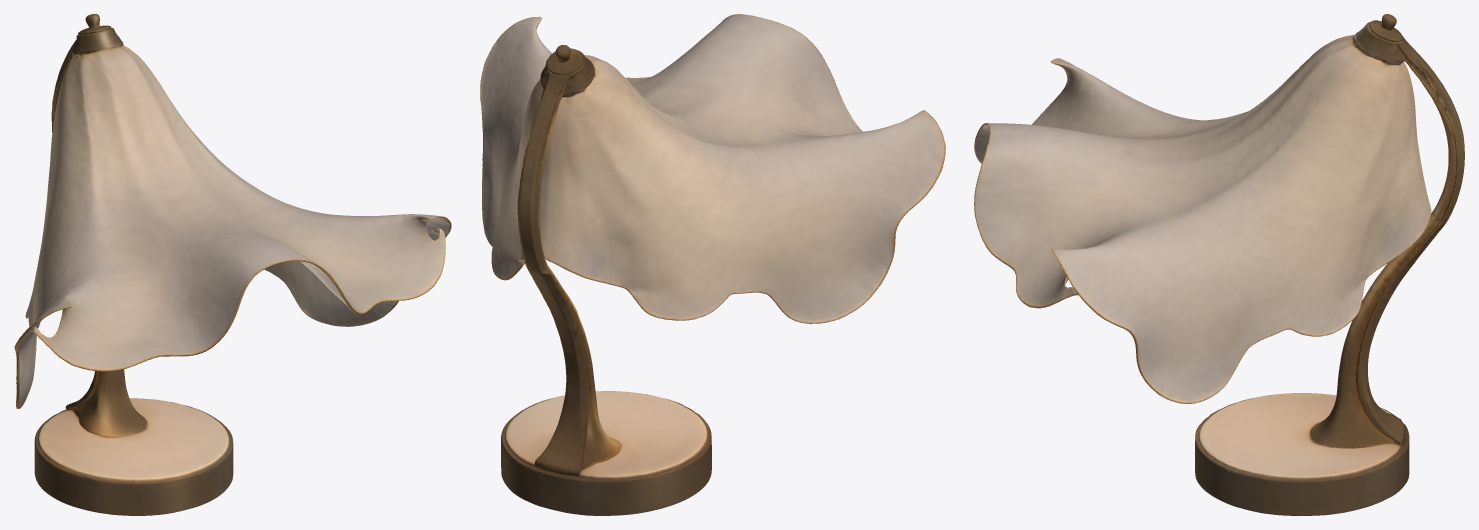
File: b31329c3-8292-4ba6-8c39-12d10dc621f6-base_basic_pbr.glb
The picture shows the model from 3 angles, left to right: view 1: azimuth 30°, elevation 25°; view 2: azimuth 150°, elevation 25°; view 3: azimuth 270°, elevation 25°; orthographic projection. The views are drawn at different scales.
Visible parts, largest first — view 1: model; view 2: model; view 3: model.
Boxes of the visible parts, bbox=[...] form: model: bbox=[14, 14, 451, 515]; model: bbox=[480, 14, 945, 515]; model: bbox=[974, 14, 1464, 515].
Size of the model in its own units: 1.9 by 1.82 by 1.77.
1 material, 1 textured.
